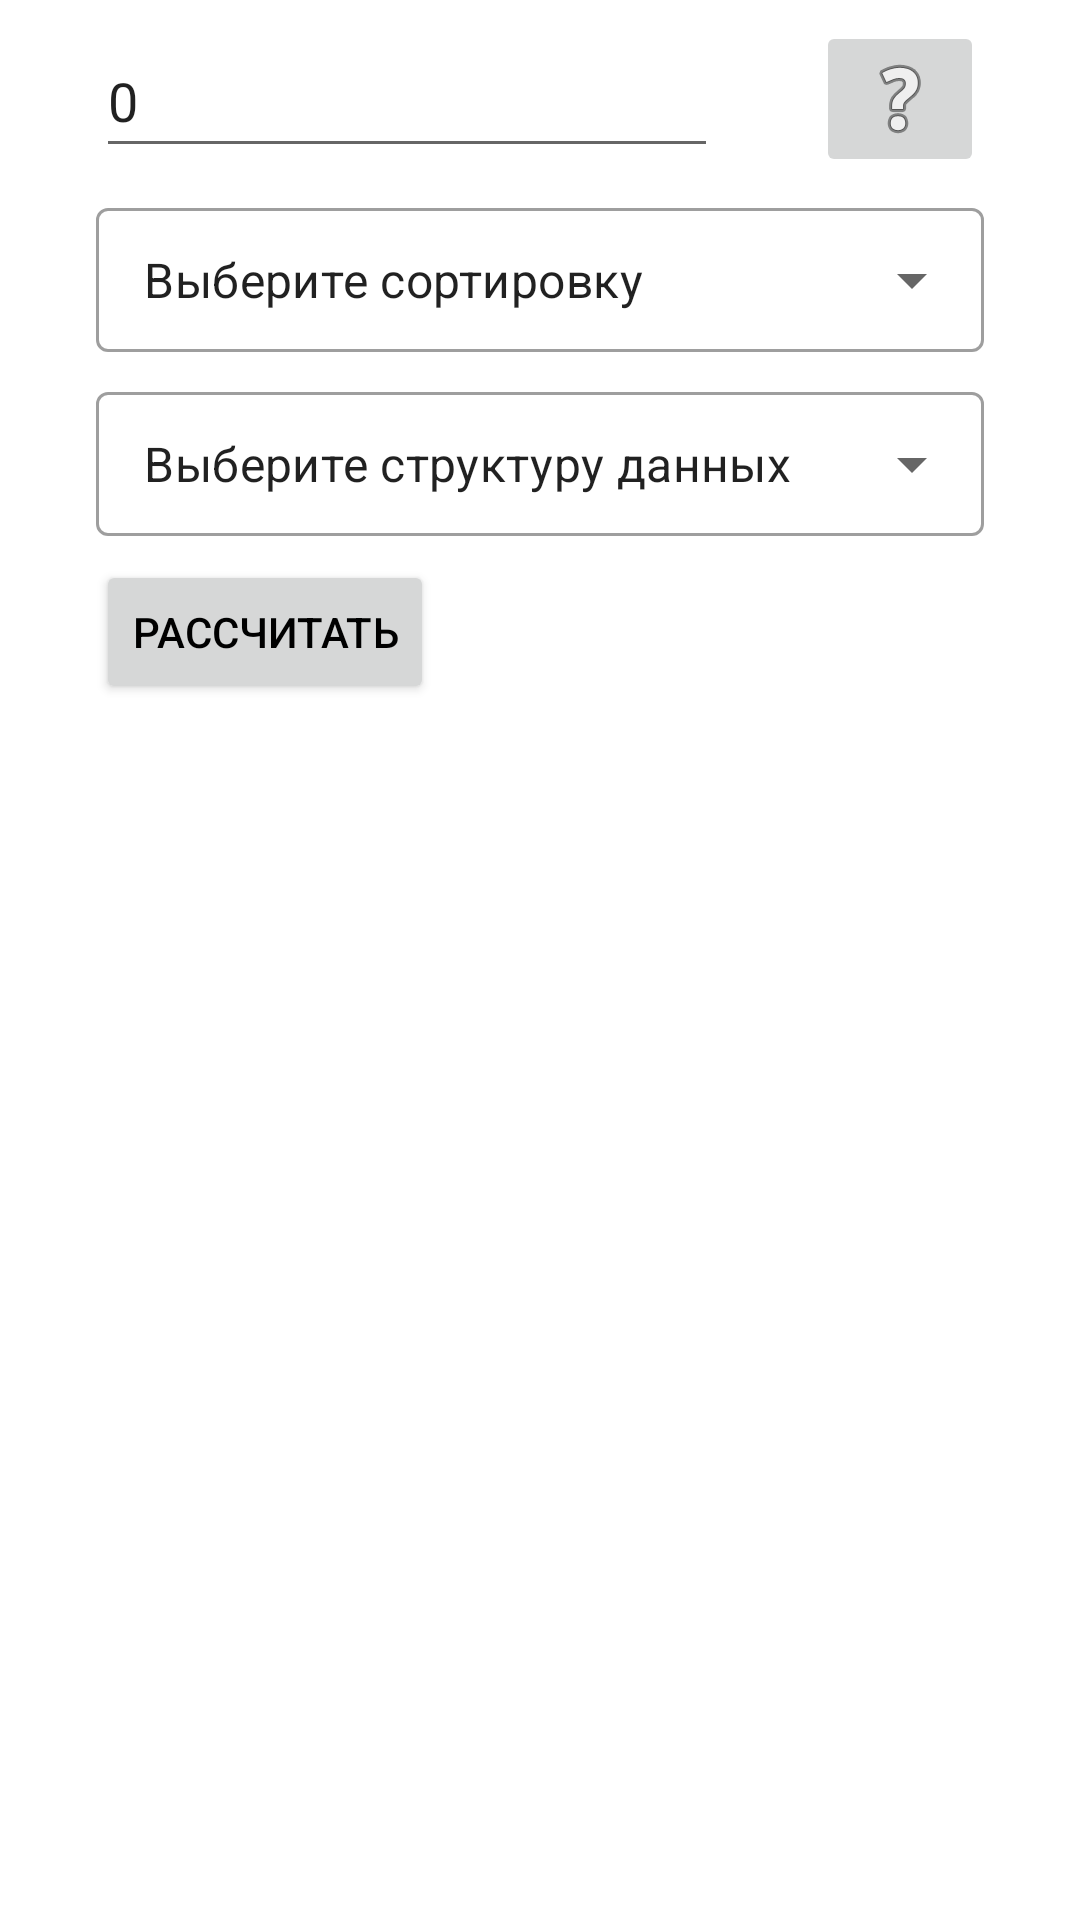

Named icons in this screenshot (1080px x 1920px) and their bounding boxes, [x1, y1, x2, y2]:
help: [828, 39, 972, 159]
